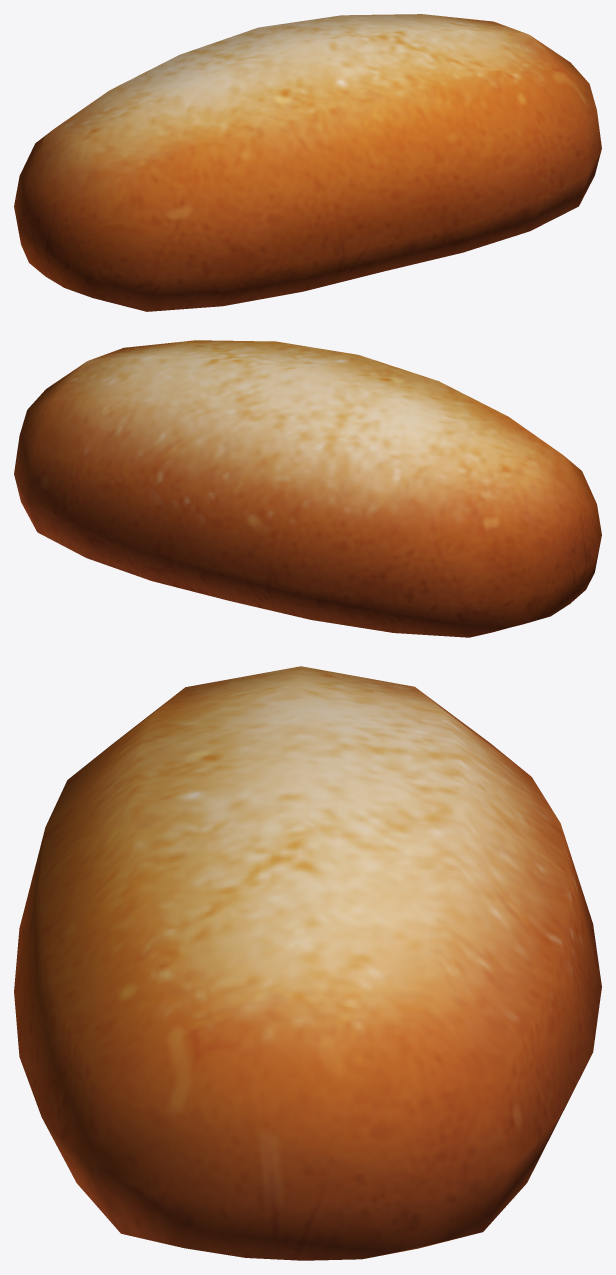
Rendered from SE_Bread_01.fbx.
3 renders of one model, top to bottom at view 1: azimuth 30°, elevation 25°; view 2: azimuth 150°, elevation 25°; view 3: azimuth 270°, elevation 25°, orthographic. The views are drawn at different scales.
Parts seen in each view (by area): view 1: SE_Bread_01; view 2: SE_Bread_01; view 3: SE_Bread_01.
Part boxes in pixels (x1,y1,x2,y2): SE_Bread_01: (14,14,601,311); SE_Bread_01: (14,340,601,637); SE_Bread_01: (14,666,601,1260).
Bounding box in the file's own units: 2.79 × 0.8937 × 1.59.
